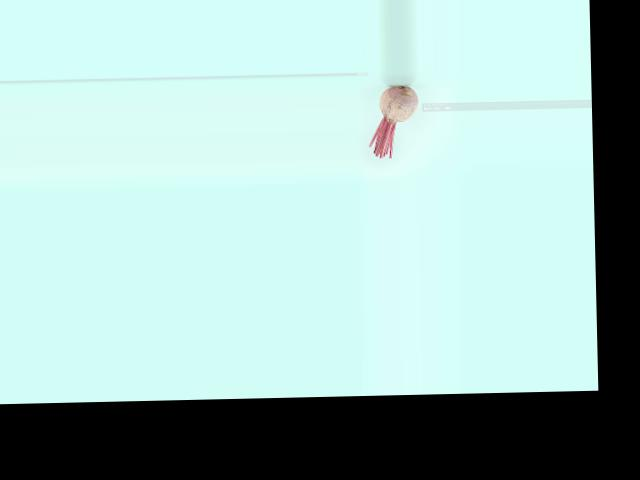beet: (368, 85, 420, 157)
